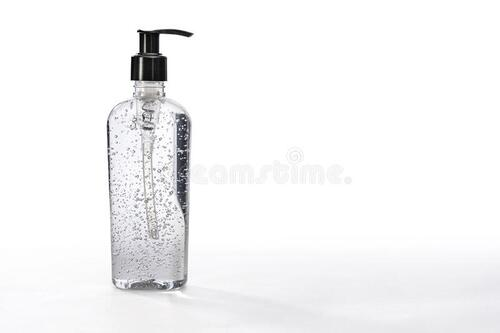sanitizer: (102, 24, 203, 293)
